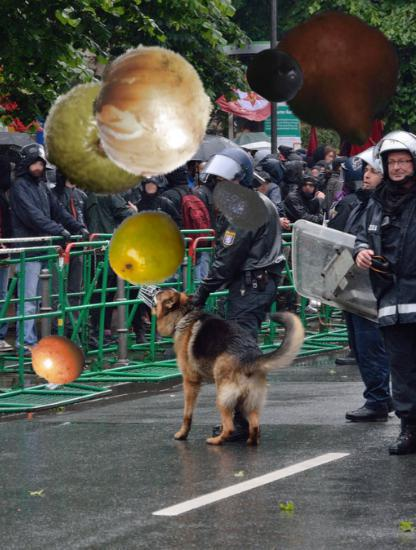Apple: (314, 24, 369, 79)
Avocado: (209, 173, 272, 236)
Granadilla: (16, 320, 89, 393)
Grape: (246, 46, 305, 105)
Guava: (41, 79, 162, 200)
Maracuja: (110, 209, 190, 289)
Onion: (86, 43, 221, 178)
Pear: (268, 9, 411, 152)
